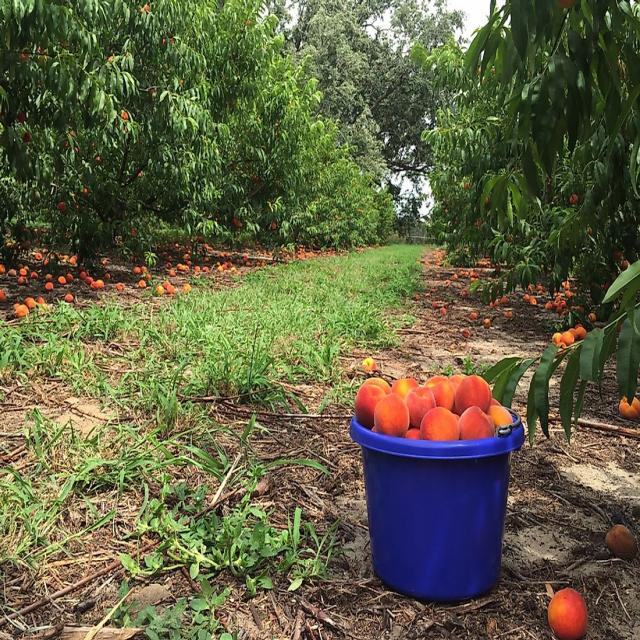Peach: (24, 18, 303, 231), (496, 62, 633, 355)
